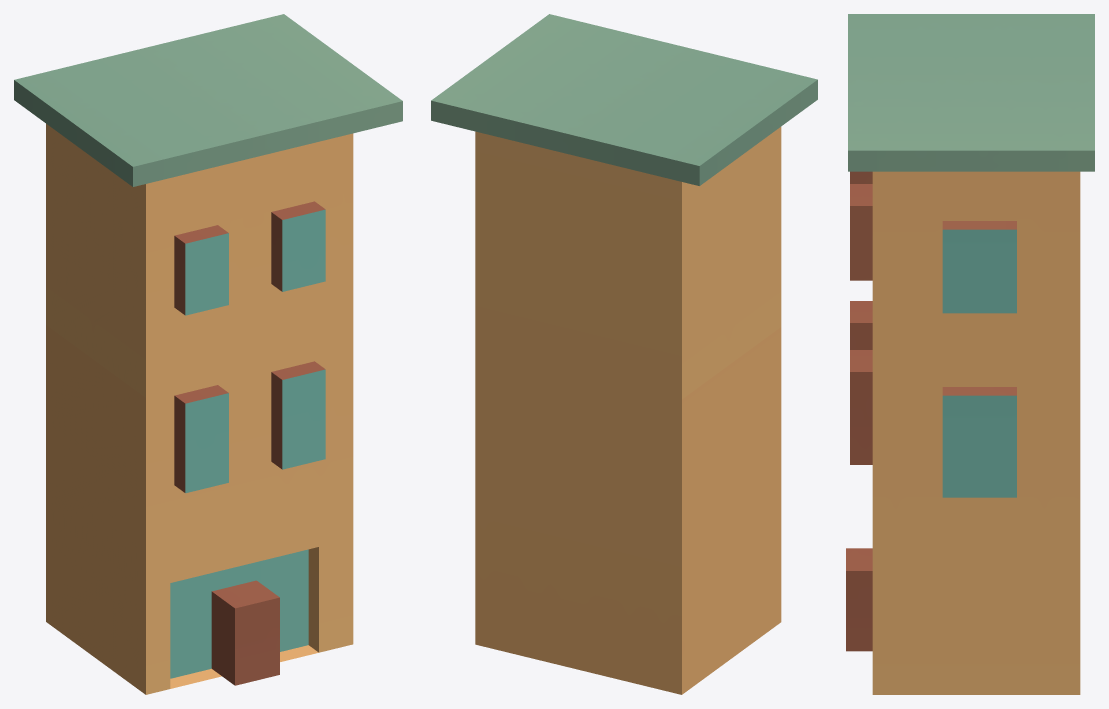
Rendered from PR_Building_01.fbx.
3 views of the same model, side by side, from view 1: azimuth 30°, elevation 25°; view 2: azimuth 150°, elevation 25°; view 3: azimuth 270°, elevation 25° (orthographic). The views are drawn at different scales.
Visible parts, largest first — view 1: PR_building_01; view 2: PR_building_01; view 3: PR_building_01.
Boxes of the visible parts, left/top/right/bottom form: PR_building_01: left=14, top=14, right=402, bottom=694; PR_building_01: left=431, top=14, right=817, bottom=694; PR_building_01: left=846, top=14, right=1094, bottom=694.
Size of the model in its own units: 592 by 1137 by 455.
1 material, 1 textured.
